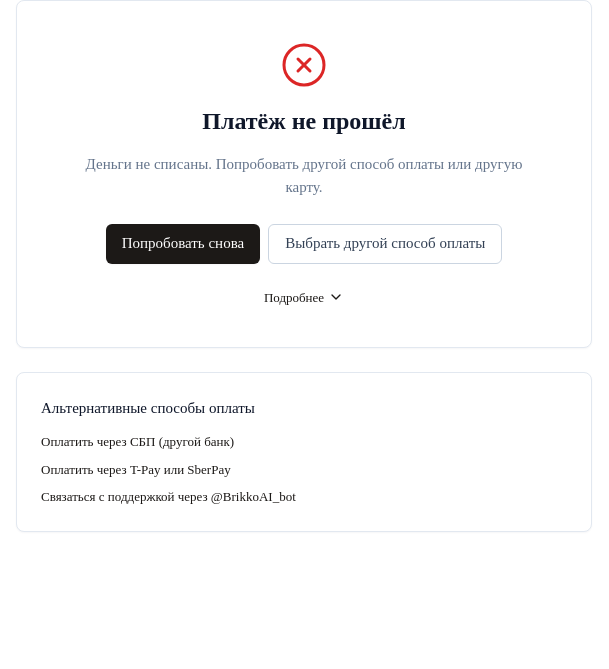
Test: <PaymentFailurePage> › неизвестный reason — fallback на «unknown»
Click the button with test id "payment-failure-toggle-detail": (304,297) [264,288,344,307]
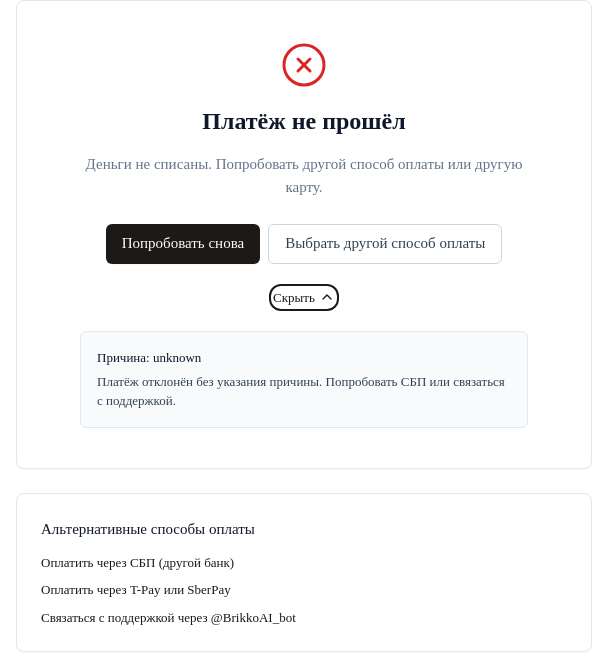
Check: the element with test id "payment-failure-detail" shows "Платёж отклонён без указания причины", box [97,374,505,408]
